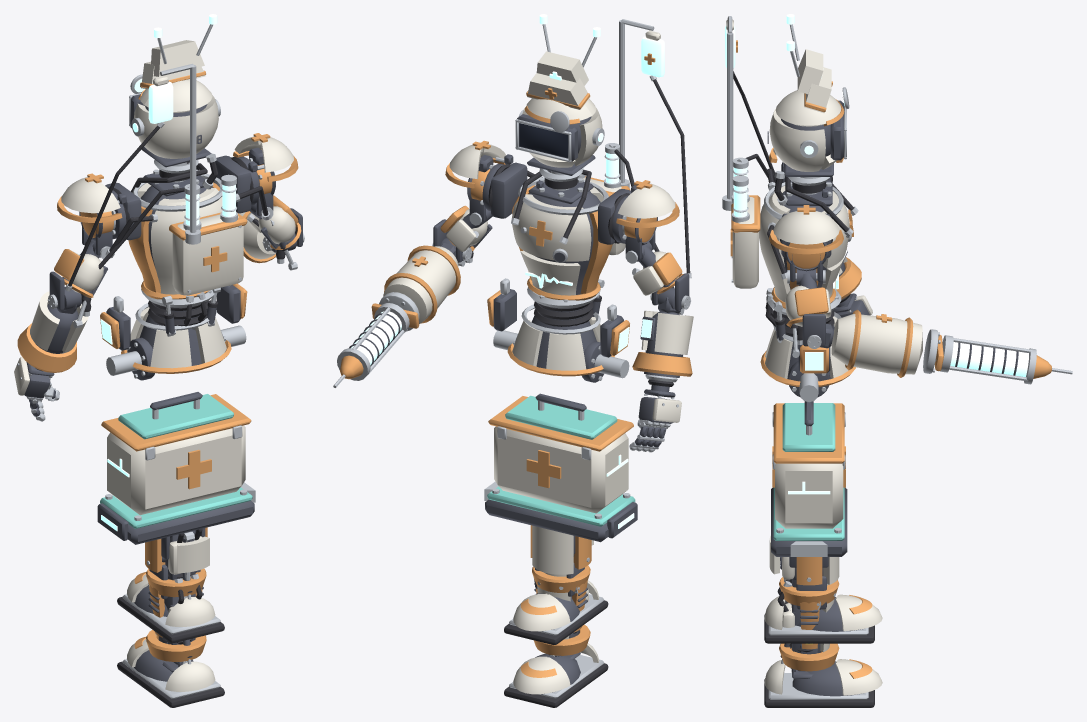
The model's file is batida13.glb.
3 renders of one model, left to right at view 1: azimuth 30°, elevation 25°; view 2: azimuth 150°, elevation 25°; view 3: azimuth 270°, elevation 25°, orthographic. The views are drawn at different scales.
Visible parts, largest first — view 1: batida13_torso__shell, batida13_brick__shell, batida13_shoulders__dark, batida13_brick__team, batida13_torso__metal, batida13_shoulders__shell, batida13_head__shell, batida13_torso__trim, batida13_brick__dark, batida13_torso__rubber, batida13_torso__dark, batida13_shoulders__trim (+24 smaller); view 2: batida13_brick__shell, batida13_torso__shell, batida13_shoulders__dark, batida13_arm__shell, batida13_brick__team, batida13_torso__metal, batida13_shoulders__shell, batida13_torso__dark, batida13_leg_l__shell, batida13_head__shell, batida13_brick__dark, batida13_shoulders__trim (+28 smaller); view 3: batida13_torso__shell, batida13_brick__shell, batida13_arm__shell, batida13_head__shell, batida13_brick__team, batida13_torso__metal, batida13_leg_l__shell, batida13_shoulders__trim, batida13_shoulders__shell, batida13_brick__trim, batida13_leg_l__dark, batida13_torso__rubber (+24 smaller).
Part boxes in pixels (x1,y1,x2,y2): batida13_torso__shell: (126,183,243,368); batida13_brick__shell: (107,425,245,515); batida13_shoulders__dark: (49,147,302,310); batida13_brick__team: (100,394,252,528); batida13_torso__metal: (79,153,270,378); batida13_shoulders__shell: (61,136,295,292); batida13_head__shell: (134,61,218,158); batida13_torso__trim: (121,182,247,373); batida13_brick__dark: (97,392,254,544); batida13_torso__rubber: (98,161,268,326); batida13_torso__dark: (127,146,223,380); batida13_shoulders__trim: (54,133,301,297); batida13_brick__shell: (494,426,628,513); batida13_torso__shell: (511,177,625,370); batida13_shoulders__dark: (433,154,689,310); batida13_arm__shell: (383,246,693,422); batida13_brick__team: (487,395,635,526); batida13_torso__metal: (493,143,629,380); batida13_shoulders__shell: (446,144,678,295); batida13_torso__dark: (515,155,603,382); batida13_leg_l__shell: (513,525,599,694); batida13_head__shell: (522,73,602,167); batida13_brick__dark: (485,393,637,542); batida13_shoulders__trim: (440,140,683,294); batida13_torso__shell: (732,186,849,378); batida13_brick__shell: (775,463,843,528); batida13_arm__shell: (831,257,922,374); batida13_head__shell: (769,67,841,171); batida13_brick__team: (773,403,844,540); batida13_torso__metal: (731,157,858,402); batida13_leg_l__shell: (764,535,882,695); batida13_shoulders__trim: (769,148,843,327); batida13_shoulders__shell: (773,149,839,326); batida13_brick__trim: (772,403,845,487); batida13_leg_l__dark: (780,557,863,696); batida13_torso__rubber: (745,154,853,335).
Size of the model in its own units: 1.22 by 2.8 by 1.33.
